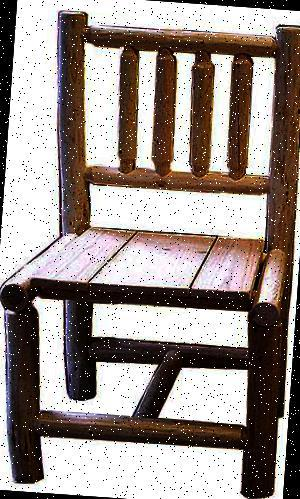Silla: (0, 5, 299, 498)
